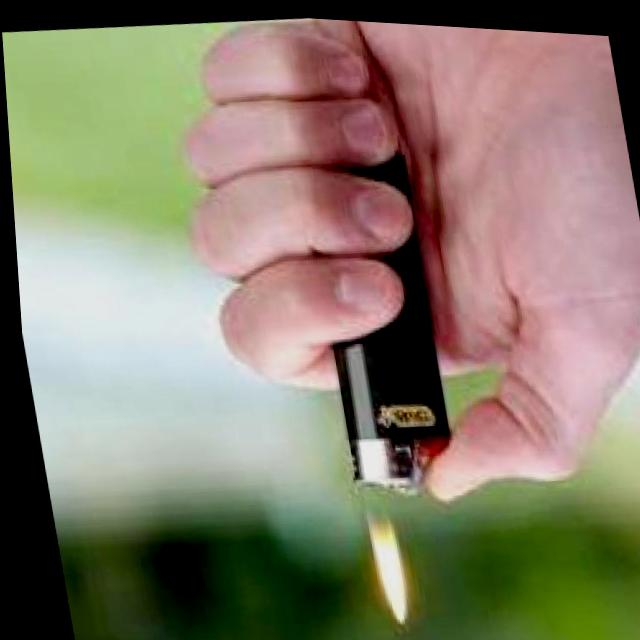helmet: (356, 492, 404, 621)
